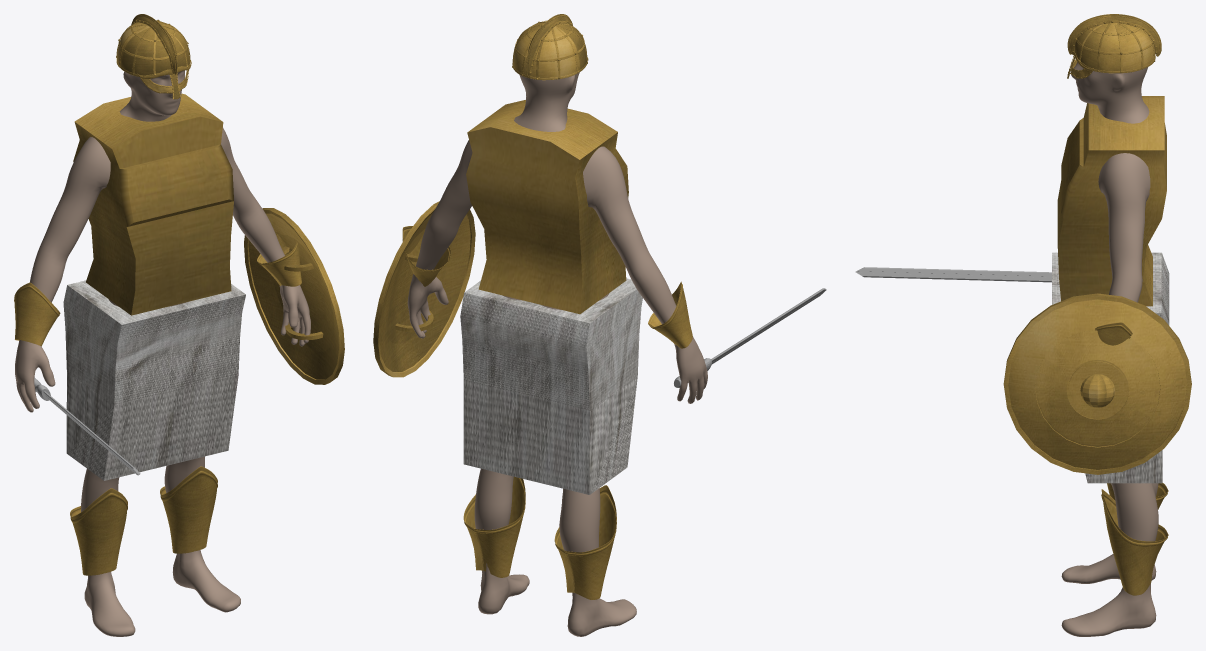
The model's file is Soldier Level_4.fbx.
3 views of the same model, side by side, from view 1: azimuth 30°, elevation 25°; view 2: azimuth 150°, elevation 25°; view 3: azimuth 270°, elevation 25° (orthographic).
Parts seen in each view (by area): view 1: pCube6, pCube3, humanBody, polySurface1, polySurface150, polySurface151, LP_Main, polySurface3, polySurface142, polySurface149, pCube1, LP_Paski3 (+1 smaller); view 2: pCube6, pCube3, humanBody, polySurface1, polySurface150, polySurface151, LP_Main, polySurface3, polySurface142, polySurface149, pCube1, LP_Paski3; view 3: polySurface2, humanBody, pCube3, polySurface3, polySurface151, pCube6, LP_Main, pCube1, pSphere2, LP_Pioro, polySurface149, LP_Paski3 (+1 smaller).
Part boxes in pixels (bbox=[...]): pCube6: bbox=[63, 280, 245, 480]; pCube3: bbox=[73, 93, 233, 315]; humanBody: bbox=[15, 70, 310, 636]; polySurface1: bbox=[248, 213, 338, 379]; polySurface150: bbox=[70, 488, 127, 575]; polySurface151: bbox=[160, 466, 217, 553]; LP_Main: bbox=[117, 21, 190, 75]; polySurface3: bbox=[244, 208, 344, 384]; polySurface142: bbox=[14, 282, 60, 346]; polySurface149: bbox=[257, 234, 301, 286]; pCube1: bbox=[43, 391, 140, 475]; LP_Paski3: bbox=[116, 20, 190, 74]; pCube6: bbox=[460, 278, 642, 494]; pCube3: bbox=[466, 100, 628, 314]; humanBody: bbox=[407, 72, 707, 636]; polySurface1: bbox=[379, 213, 470, 371]; polySurface150: bbox=[554, 485, 616, 599]; polySurface151: bbox=[463, 476, 525, 577]; LP_Main: bbox=[513, 21, 587, 77]; polySurface3: bbox=[373, 201, 475, 377]; polySurface142: bbox=[648, 281, 692, 348]; polySurface149: bbox=[402, 226, 450, 286]; pCube1: bbox=[711, 288, 826, 364]; LP_Paski3: bbox=[512, 22, 587, 77]; polySurface2: bbox=[1008, 299, 1187, 469]; humanBody: bbox=[1061, 62, 1158, 636]; pCube3: bbox=[1057, 96, 1166, 306]; polySurface3: bbox=[1003, 293, 1191, 474]; polySurface151: bbox=[1101, 489, 1168, 595]; pCube6: bbox=[1052, 252, 1169, 483]; LP_Main: bbox=[1074, 23, 1155, 73]; pCube1: bbox=[855, 267, 1051, 282]; pSphere2: bbox=[1080, 374, 1114, 407]; LP_Pioro: bbox=[1067, 14, 1161, 56]; polySurface149: bbox=[1095, 322, 1132, 345]; LP_Paski3: bbox=[1079, 22, 1154, 73].
Size of the model in its own units: 19.82 by 36.65 by 18.9.
